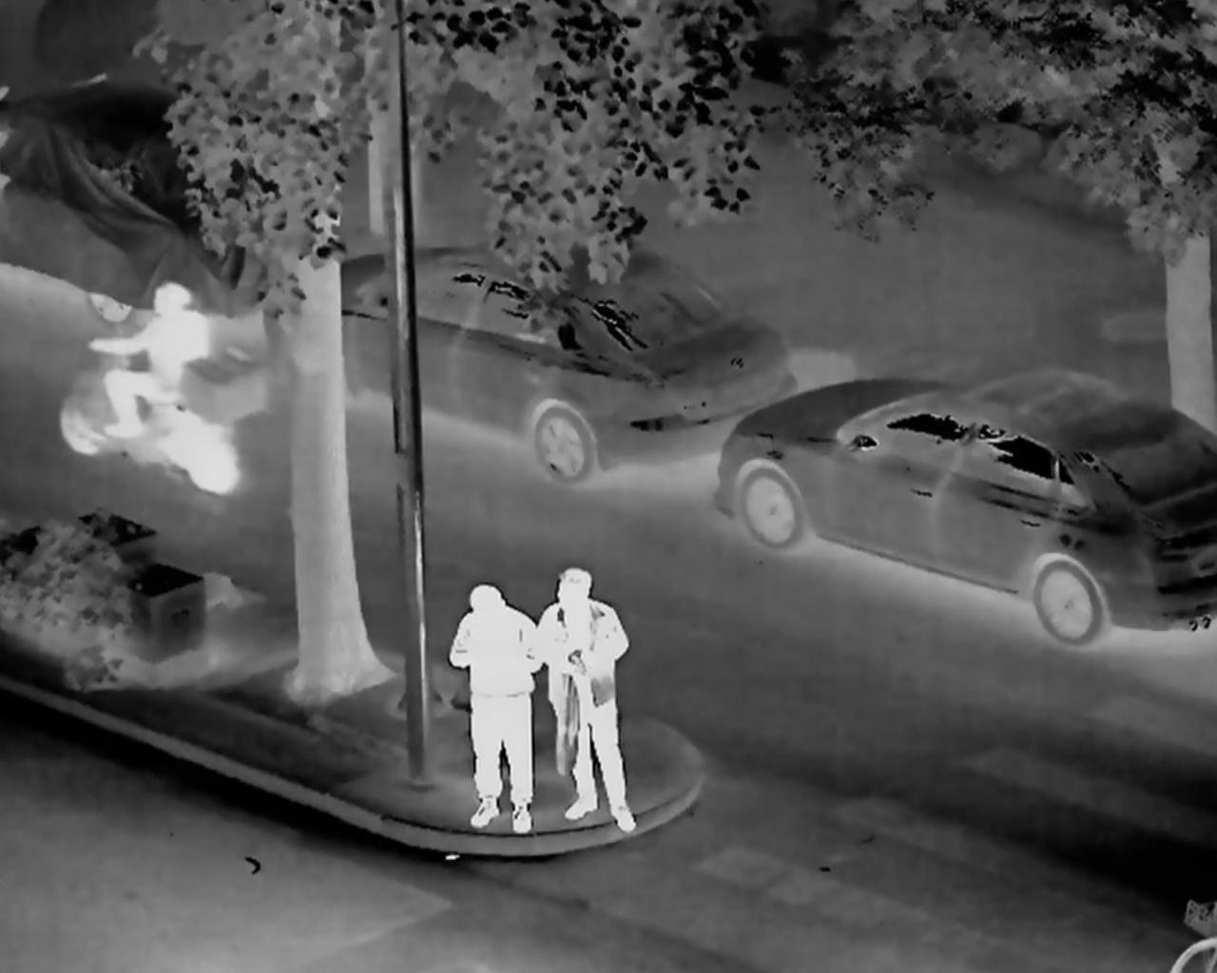person: (443, 581, 554, 836), (532, 563, 637, 829), (97, 278, 213, 471)
